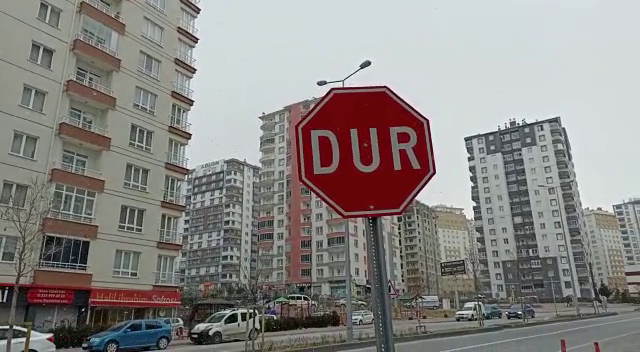stop: (291, 82, 445, 224)
